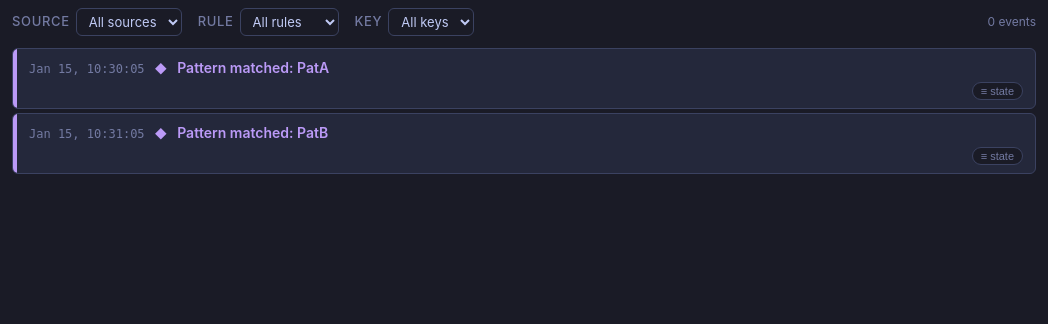
Scenario: StateEvolutionView (Event Feed) › multiple pattern state panels can be open simultaneously
Click the 1st button titled "Toggle pattern state snapshot" at (997, 91), box [972,82,1023,100]
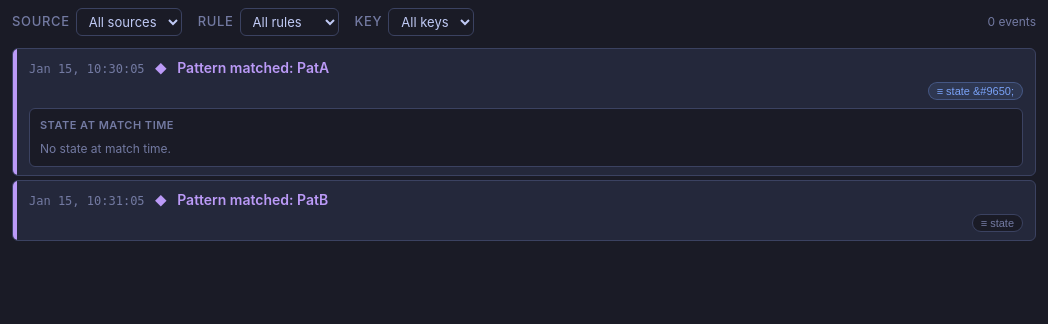
Click the button titled "Toggle pattern state snapshot" at (997, 222), box [972,214,1023,232]
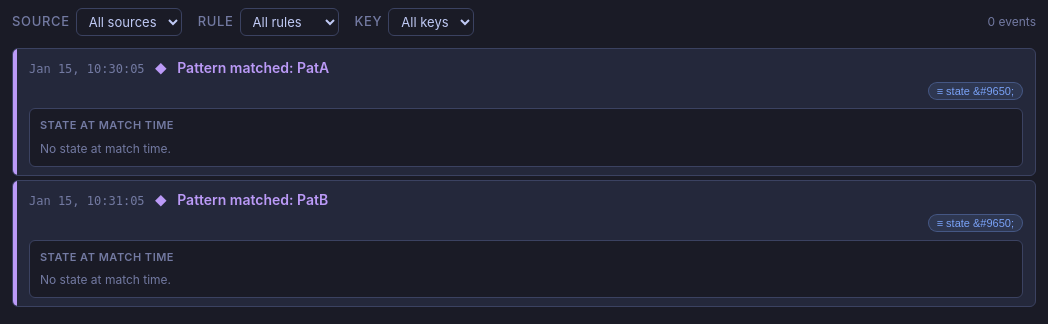
Now the number of elements with class "state-panel" is 2, box [29,108,1023,166]; [29,240,1023,298]
